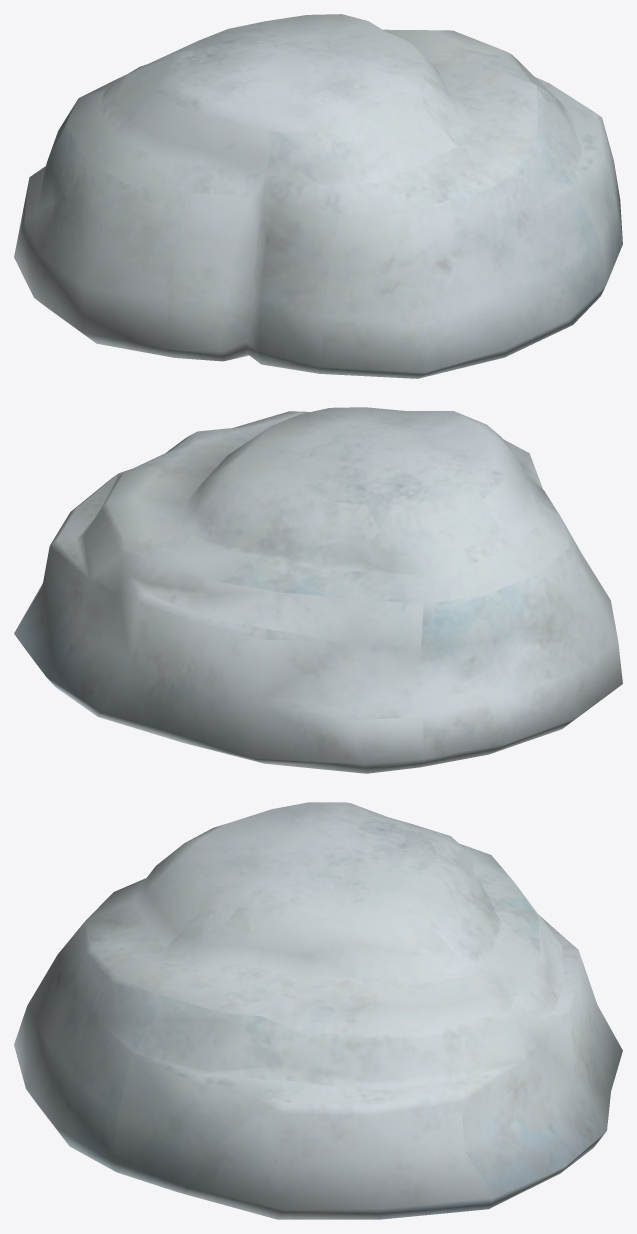
Rendered from P_RockDesert_Shelf05.obj.
3 renders of one model, top to bottom at view 1: azimuth 30°, elevation 25°; view 2: azimuth 150°, elevation 25°; view 3: azimuth 270°, elevation 25°, orthographic. The views are drawn at different scales.
Bounding box in the file's own units: 26.78 × 11.28 × 25.55.
